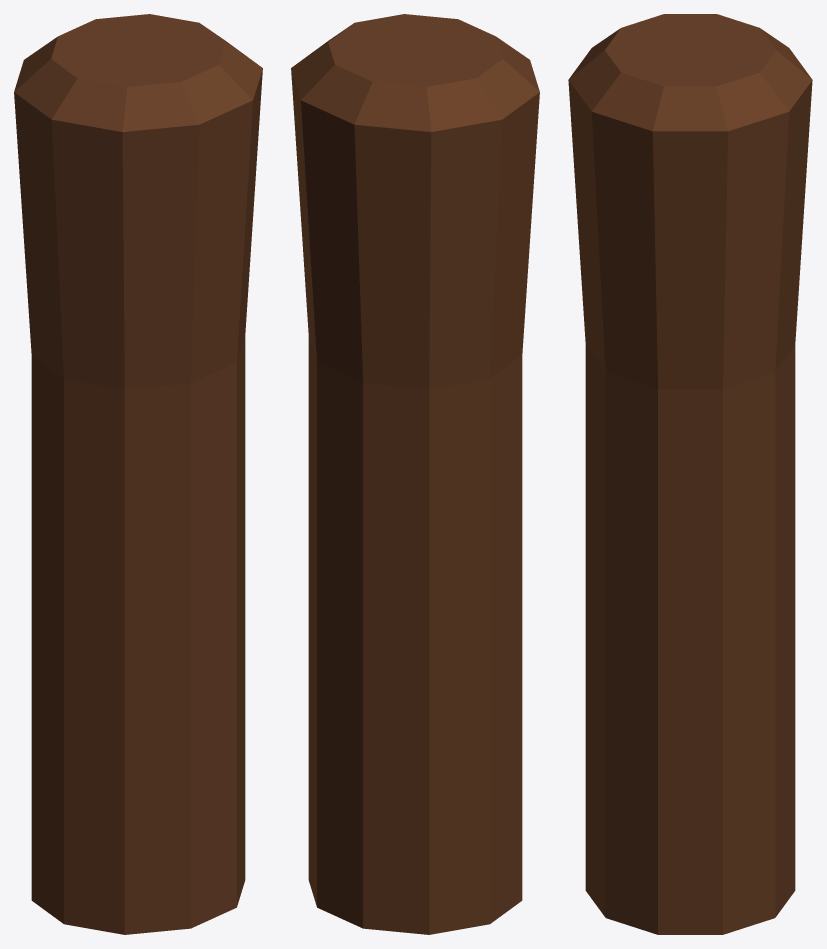
File: bell wood overlay.obj
The picture shows the model from 3 angles, left to right: view 1: azimuth 30°, elevation 25°; view 2: azimuth 150°, elevation 25°; view 3: azimuth 270°, elevation 25°; orthographic projection.
Visible parts, largest first — view 1: Cylinder_Cylinder.Wood; view 2: Cylinder_Cylinder.Wood; view 3: Cylinder_Cylinder.Wood.
Boxes of the visible parts, bbox=[...] form: Cylinder_Cylinder.Wood: bbox=[14, 14, 262, 934]; Cylinder_Cylinder.Wood: bbox=[291, 14, 539, 934]; Cylinder_Cylinder.Wood: bbox=[568, 14, 812, 934].
Size of the model in its own units: 0.3726 by 1.42 by 0.3726.
